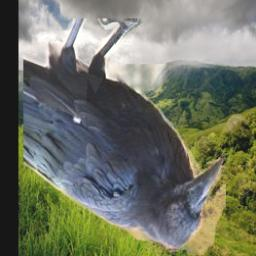Crow: (23, 18, 226, 255)
